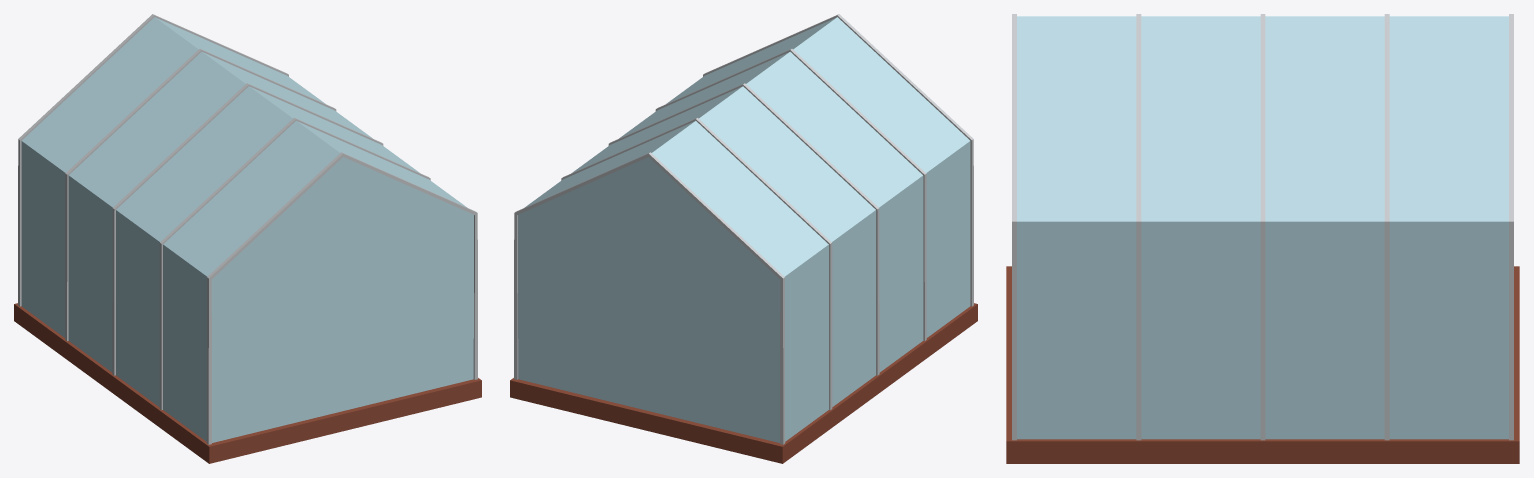
File: street.garden.greenhouse.glb
3 views of the same model, side by side, from view 1: azimuth 30°, elevation 25°; view 2: azimuth 150°, elevation 25°; view 3: azimuth 270°, elevation 25° (orthographic). The views are drawn at different scales.
Visible parts, largest first — view 1: main__glass, main__aluminium, main__brick; view 2: main__glass, main__aluminium, main__brick; view 3: main__glass, main__brick, main__aluminium.
Boxes of the visible parts, <box> form: main__glass: <box>21,17,473,442</box>; main__aluminium: <box>18,14,477,444</box>; main__brick: <box>14,303,481,463</box>; main__glass: <box>518,17,970,442</box>; main__aluminium: <box>514,14,973,444</box>; main__brick: <box>510,303,977,463</box>; main__glass: <box>1017,16,1508,439</box>; main__brick: <box>1006,266,1519,463</box>; main__aluminium: <box>1012,14,1513,440</box>.
Size of the model in its own units: 2.5 by 2.42 by 3.1.
